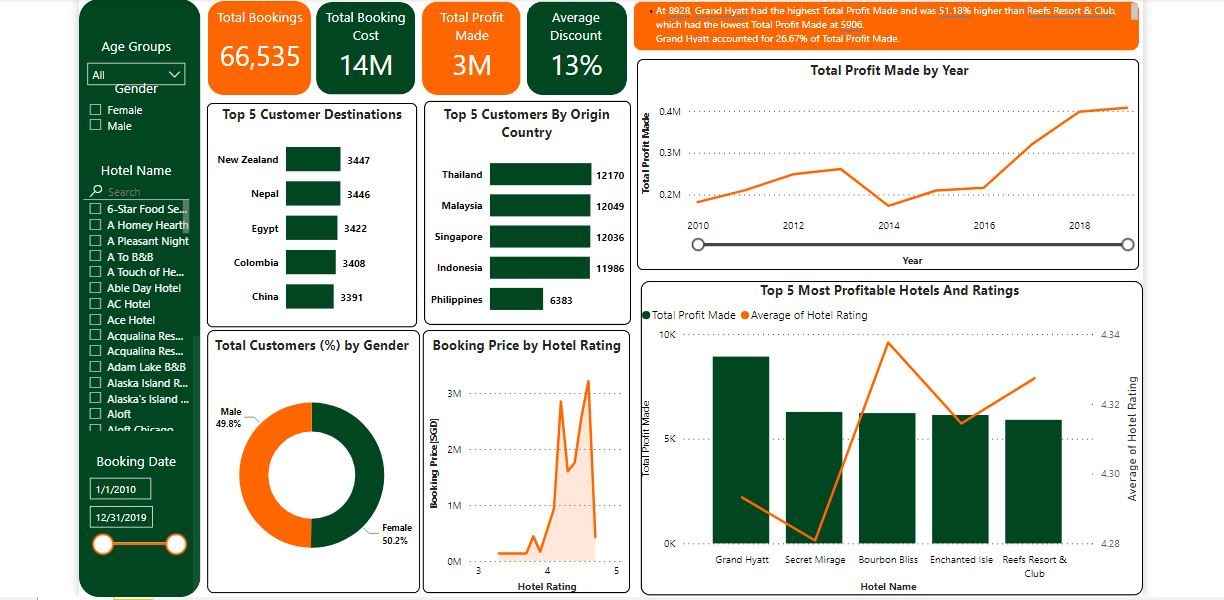

What the dashboard file says about the page in this screenshot:
{"tool":"powerbi","page":{"name":"Page 1","canvas":[1280,720],"ordinal":0},"visuals":[{"type":"card","title":"Total Bookings","fields":{"Values":["Order Database.Total Bookings"]},"box":[159.7,11,115.6,93.6],"z":0},{"type":"card","title":"Total Booking Cost","fields":{"Values":["Order Database.Total Booking Cost"]},"box":[290.4,11,110.1,93.6],"z":1000},{"type":"card","title":"Total Profit Made","fields":{"Values":["Order Database.Total Profit Margin"]},"box":[418.4,11,108.7,93.6],"z":2000},{"type":"card","title":"Average Discount","fields":{"Values":["Avg(Order Database.Discount)"]},"box":[542.3,11,112.9,93.6],"z":3000},{"type":"clusteredBarChart","title":"Top 5 Customer Destinations ","fields":{"Category":["Order Database.Destination Country"],"Y":["Order Database.Total Customers"]},"box":[159.7,128,240.9,268.4],"z":4000},{"type":"clusteredBarChart","title":"Top 5 Customers By Origin Country","fields":{"Y":["Order Database.Total Customers"],"Category":["Order Database.Origin Country"]},"box":[417,128,245,268.4],"z":5000},{"type":"donutChart","title":"Total Customers (%) by Gender","fields":{"Category":["Order Database.Gender"],"Y":["Order Database.Total Customers"]},"box":[137.6,406,286.3,313.8],"z":6000},{"type":"lineChart","fields":{"Y":["Order Database.Total Profit Made"],"Category":["Order Database.Year"]},"box":[671.7,74.3,608.3,249.1],"z":7000},{"type":"stackedAreaChart","title":"Booking Price by Hotel Rating","fields":{"Category":["Order Database.Hotel Rating"],"Y":["Sum(Order Database.Booking Price[SGD])"]},"box":[417,406,245,313.8],"z":8000},{"type":"lineStackedColumnComboChart","title":"Top 5 Most Profitable  Hotels And Ratings ","fields":{"Category":["Order Database.Hotel Name"],"Y":["Order Database.Total Profit Made"],"Y2":["Avg(Order Database.Hotel Rating)"]},"box":[671.7,340,608.3,379.9],"z":9000},{"type":"slicer","title":"Age Groups","fields":{"Values":["Order Database.Age Groups"]},"box":[0,45.4,137.6,59.2],"z":10000},{"type":"slicer","title":"Booking Date","fields":{"Values":["Order Database.Date of Booking"]},"box":[0,545,137.6,174.8],"z":11000},{"type":"slicer","title":"Gender","fields":{"Values":["Order Database.Gender"]},"box":[0,96.8,137.6,133.5],"z":12000},{"type":"slicer","title":"Hotel Name","fields":{"Values":["Order Database.Hotel Name"]},"box":[0,195.4,137.6,330.3],"z":13000},{"type":"textbox","box":[671.7,0,608.3,57.8],"z":14000}]}

Visuals, with their boxes in screenshot pixels (x1, y1, x2, y2):
"Total Bookings" card: pyautogui.locateOnScreen(217, 9, 312, 86)
"Total Booking Cost" card: pyautogui.locateOnScreen(324, 9, 415, 86)
"Total Profit Made" card: pyautogui.locateOnScreen(429, 9, 519, 86)
"Average Discount" card: pyautogui.locateOnScreen(531, 9, 624, 86)
"Top 5 Customer Destinations " clusteredBarChart: pyautogui.locateOnScreen(217, 105, 415, 325)
"Top 5 Customers By Origin Country" clusteredBarChart: pyautogui.locateOnScreen(428, 105, 629, 325)
"Total Customers (%) by Gender" donutChart: pyautogui.locateOnScreen(199, 333, 434, 591)
lineChart - Order Database.Total Profit Made x Order Database.Year: pyautogui.locateOnScreen(637, 61, 1137, 265)
"Booking Price by Hotel Rating" stackedAreaChart: pyautogui.locateOnScreen(428, 333, 629, 591)
"Top 5 Most Profitable  Hotels And Ratings " lineStackedColumnComboChart: pyautogui.locateOnScreen(637, 279, 1137, 591)
"Age Groups" slicer: pyautogui.locateOnScreen(86, 37, 199, 86)
"Booking Date" slicer: pyautogui.locateOnScreen(86, 447, 199, 591)
"Gender" slicer: pyautogui.locateOnScreen(86, 79, 199, 189)
"Hotel Name" slicer: pyautogui.locateOnScreen(86, 160, 199, 431)
textbox: pyautogui.locateOnScreen(637, 0, 1137, 47)
